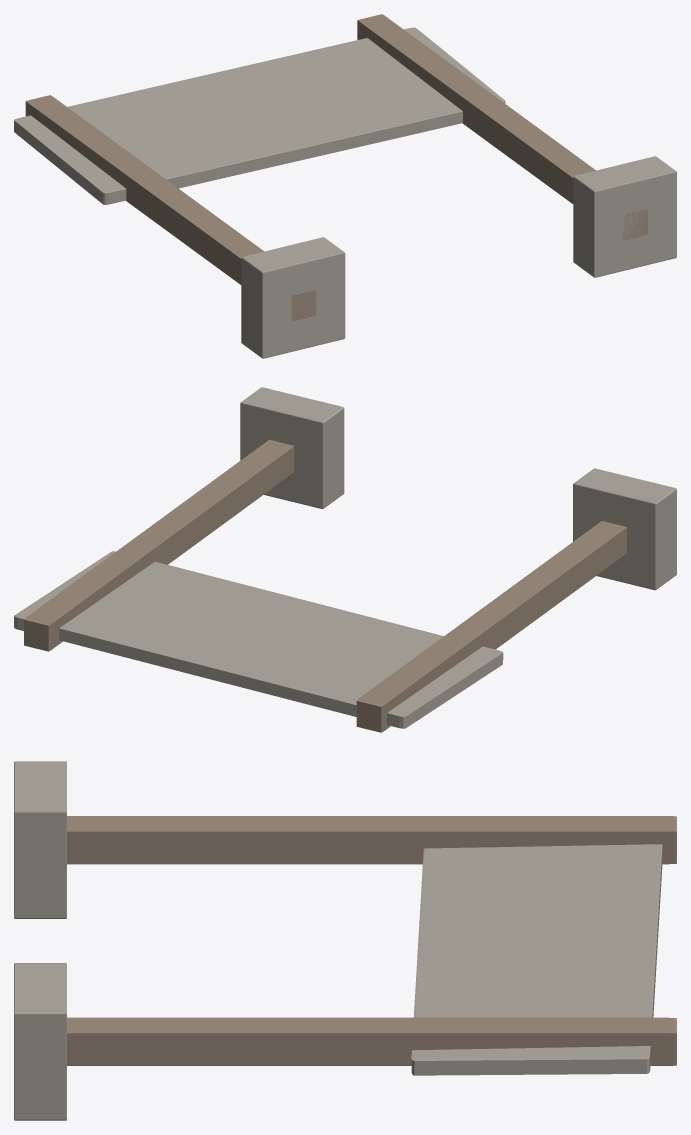
Rendered from dz_blender_quarantine_sign.glb.
The picture shows the model from 3 angles, top to bottom: view 1: azimuth 30°, elevation 25°; view 2: azimuth 150°, elevation 25°; view 3: azimuth 270°, elevation 25°; orthographic projection. The views are drawn at different scales.
Visible parts, largest first — view 1: bent quarantine plate, lower concrete feet.001, heavy post left, lower concrete feet, heavy post right; view 2: bent quarantine plate, heavy post right, heavy post left, lower concrete feet.001, lower concrete feet; view 3: bent quarantine plate, heavy post right, heavy post left, lower concrete feet, lower concrete feet.001.
Part boxes in pixels (bbox=[...]): bent quarantine plate: bbox=[14, 27, 505, 204]; lower concrete feet.001: bbox=[573, 156, 676, 277]; heavy post left: bbox=[25, 95, 316, 321]; lower concrete feet: bbox=[241, 237, 345, 358]; heavy post right: bbox=[357, 14, 647, 240]; bent quarantine plate: bbox=[14, 551, 503, 728]; heavy post right: bbox=[24, 439, 294, 651]; heavy post left: bbox=[356, 521, 626, 732]; lower concrete feet.001: bbox=[240, 387, 344, 509]; lower concrete feet: bbox=[573, 468, 676, 590]; bent quarantine plate: bbox=[411, 844, 662, 1075]; heavy post right: bbox=[67, 1017, 676, 1065]; heavy post left: bbox=[67, 816, 676, 864]; lower concrete feet: bbox=[14, 761, 66, 918]; lower concrete feet.001: bbox=[14, 963, 66, 1120].
Bounding box in the file's own units: 1.8 × 0.36 × 2.
